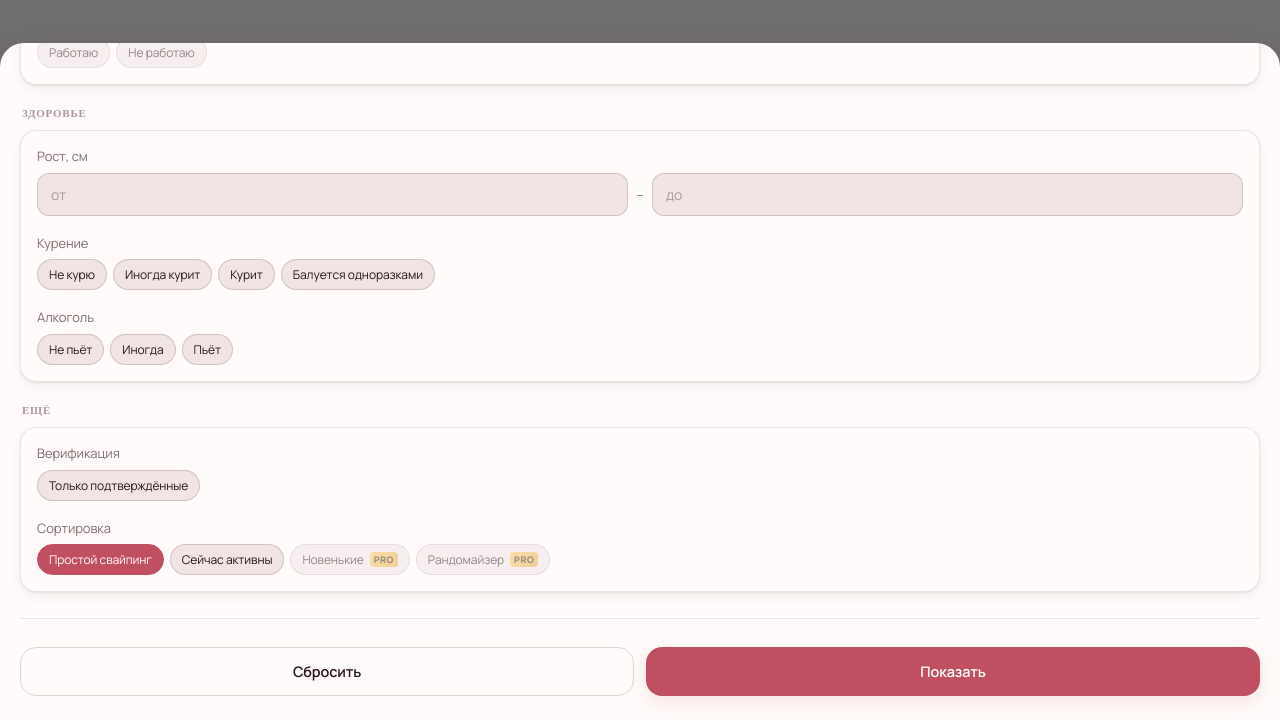
FilterSheet — сортировка › клик по "Рандомайзер" без Premium открывает пейволл с упоминанием буста
(page scrolled)
Click the button "Рандомайзер" at (483, 560), box left=416, top=544, right=550, bottom=575
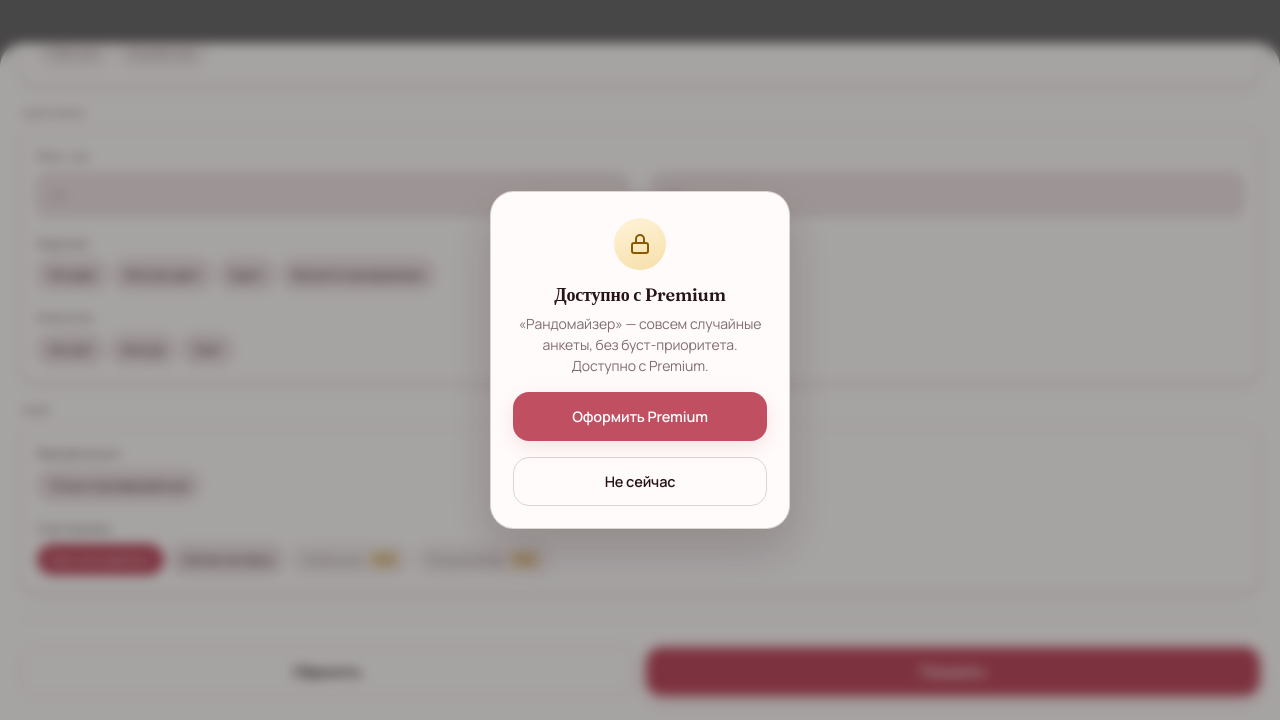
Expected: the text "«Рандомайзер»" is shown, left=519, top=314, right=761, bottom=375
